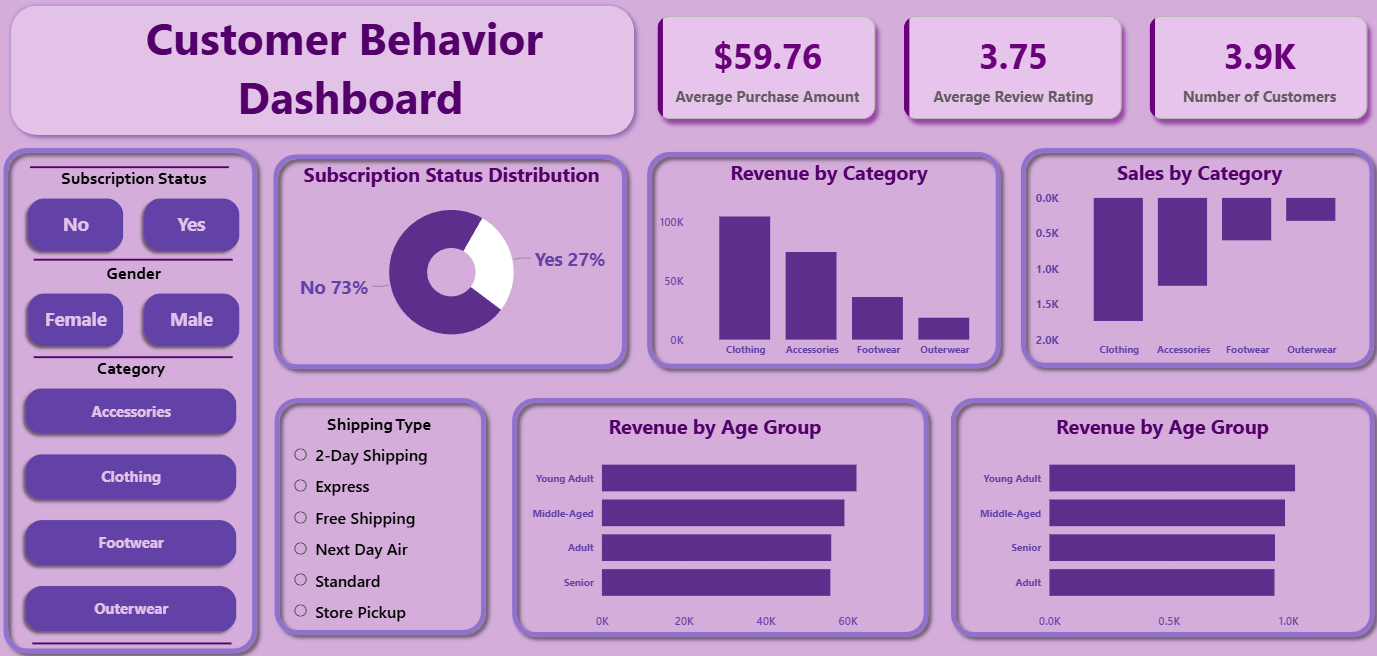

The dashboard page shown, as its layout file describes it:
{"tool":"powerbi","page":{"name":"Page 1","canvas":[1500,820],"ordinal":0},"visuals":[{"type":"shape","box":[0,154,1500,566],"z":0},{"type":"shape","box":[292,162,400,250],"z":1000},{"type":"shape","box":[0,0,1500,156],"z":2000},{"type":"shape","box":[8,2,692,158],"z":2500,"group":"g1"},{"type":"cardVisual","fields":{"Data":["customer_shopping_behaviour_data.Average Purchase Count","customer_shopping_behaviour_data.Average Review Rating","customer_shopping_behaviour_data.Number of Customers"]},"box":[700,6,800,144],"z":3000},{"type":"textbox","box":[78,8,612,150],"z":3000,"group":"g1"},{"type":"shape","box":[0,156,292,564],"z":4000},{"type":"donutChart","title":"Subscription Status Distribution","fields":{"Y":["CountNonNull(customer_shopping_behaviour_data.customer_id)"],"Category":["customer_shopping_behaviour_data.subscription_status"]},"box":[294,178,398,212],"z":5000},{"type":"group","id":"g1","title":"Group 1","box":[8,2,692,158],"z":6000},{"type":"shape","box":[1100,155,400,255],"z":7000},{"type":"shape","box":[696,160,400,252],"z":8000},{"type":"clusteredColumnChart","title":"Revenue by Category","fields":{"Y":["Sum(customer_shopping_behaviour_data.purchase_amount)"],"Category":["customer_shopping_behaviour_data.category"]},"box":[714,176,376,224],"z":9000},{"type":"clusteredColumnChart","title":"Sales by Category","fields":{"Y":["CountNonNull(customer_shopping_behaviour_data.customer_id)"],"Category":["customer_shopping_behaviour_data.category"]},"box":[1120,176,364,224],"z":10000},{"type":"advancedSlicerVisual","title":"Subscription Status","fields":{"Values":["customer_shopping_behaviour_data.subscription_status"]},"box":[23.8,185,251.2,102.5],"z":11000},{"type":"advancedSlicerVisual","title":"Gender","fields":{"Values":["customer_shopping_behaviour_data.gender"]},"box":[23.8,287.5,251.2,102.5],"z":12000},{"type":"advancedSlicerVisual","title":"Category","fields":{"Values":["customer_shopping_behaviour_data.category"]},"box":[21.2,390,251.2,311.2],"z":13000},{"type":"shape","box":[42.5,372.5,215,35],"z":14000},{"type":"shape","box":[42.5,267.5,215,35],"z":15000},{"type":"shape","box":[40,682.5,215,35],"z":16000},{"type":"shape","box":[550,426,468,276],"z":17000},{"type":"shape","box":[37.5,167.5,215,35],"z":18000},{"type":"clusteredBarChart","title":"Revenue by Age Group","fields":{"Category":["customer_shopping_behaviour_data.age_group"],"Y":["Sum(customer_shopping_behaviour_data.purchase_amount)"]},"box":[574,450,408,244],"z":19000},{"type":"shape","box":[293.8,426.2,246.2,273.8],"z":20000},{"type":"listSlicer","title":"Shipping Type","fields":{"Values":["customer_shopping_behaviour_data.shipping_type"]},"box":[316,452,198,304],"z":21000},{"type":"shape","box":[1024,426,476,276],"z":22000},{"type":"clusteredBarChart","title":"Revenue by Age Group","fields":{"Category":["customer_shopping_behaviour_data.age_group"],"Y":["CountNonNull(customer_shopping_behaviour_data.customer_id)"]},"box":[1058,450,408,244],"z":23000}]}

Visuals, with their boxes on the page's 1500x820 design canvas (x1, y1, x2, y2). These are canvas units, not pixel positions in the 1377x656 screenshot, which may show the page scaled, cropped or inside an application window:
shape: x1=0 y1=154 x2=1500 y2=720
shape: x1=292 y1=162 x2=692 y2=412
shape: x1=0 y1=0 x2=1500 y2=156
shape: x1=8 y1=2 x2=700 y2=160
cardVisual - customer_shopping_behaviour_data.Average Purchase Count x customer_shopping_behaviour_data.Average Review Rating: x1=700 y1=6 x2=1500 y2=150
textbox: x1=78 y1=8 x2=690 y2=158
shape: x1=0 y1=156 x2=292 y2=720
"Subscription Status Distribution" donutChart: x1=294 y1=178 x2=692 y2=390
"Group 1" group: x1=8 y1=2 x2=700 y2=160
shape: x1=1100 y1=155 x2=1500 y2=410
shape: x1=696 y1=160 x2=1096 y2=412
"Revenue by Category" clusteredColumnChart: x1=714 y1=176 x2=1090 y2=400
"Sales by Category" clusteredColumnChart: x1=1120 y1=176 x2=1484 y2=400
"Subscription Status" advancedSlicerVisual: x1=24 y1=185 x2=275 y2=288
"Gender" advancedSlicerVisual: x1=24 y1=288 x2=275 y2=390
"Category" advancedSlicerVisual: x1=21 y1=390 x2=272 y2=701
shape: x1=42 y1=372 x2=258 y2=408
shape: x1=42 y1=268 x2=258 y2=302
shape: x1=40 y1=682 x2=255 y2=718
shape: x1=550 y1=426 x2=1018 y2=702
shape: x1=38 y1=168 x2=252 y2=202
"Revenue by Age Group" clusteredBarChart: x1=574 y1=450 x2=982 y2=694
shape: x1=294 y1=426 x2=540 y2=700
"Shipping Type" listSlicer: x1=316 y1=452 x2=514 y2=756
shape: x1=1024 y1=426 x2=1500 y2=702
"Revenue by Age Group" clusteredBarChart: x1=1058 y1=450 x2=1466 y2=694
